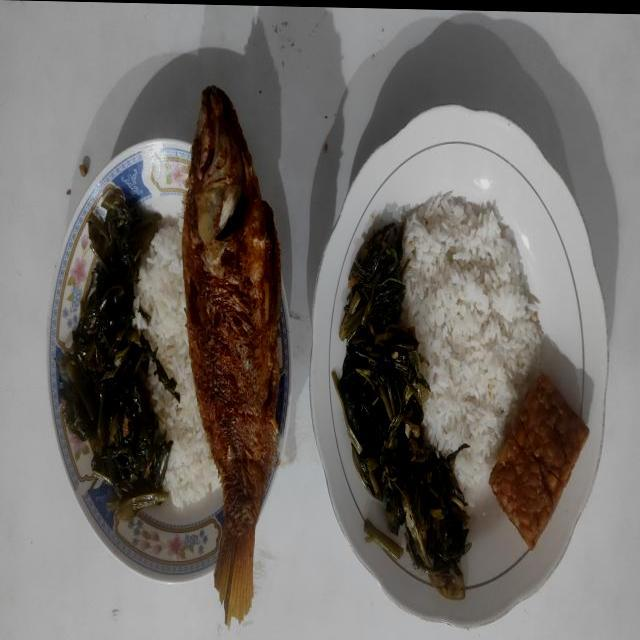ikan_mujair: (182, 86, 282, 624)
nasi_putih: (401, 192, 542, 495), (134, 218, 220, 504)
tempe_goreng: (489, 373, 589, 549)
tumis_kangkung: (332, 222, 471, 600), (56, 186, 180, 520)
